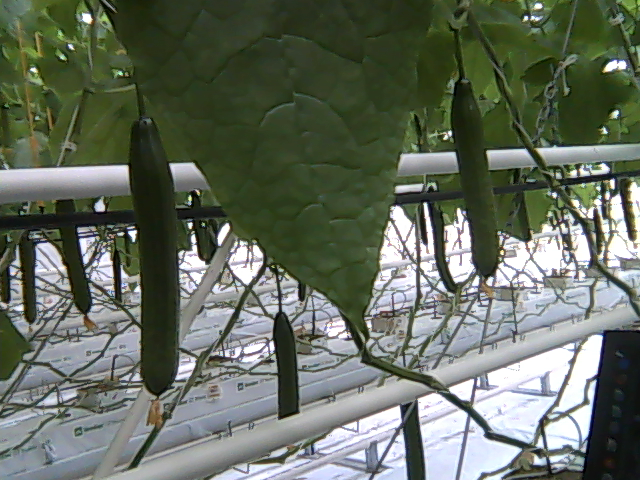concombre: (127, 96, 183, 432), (446, 69, 503, 301)
